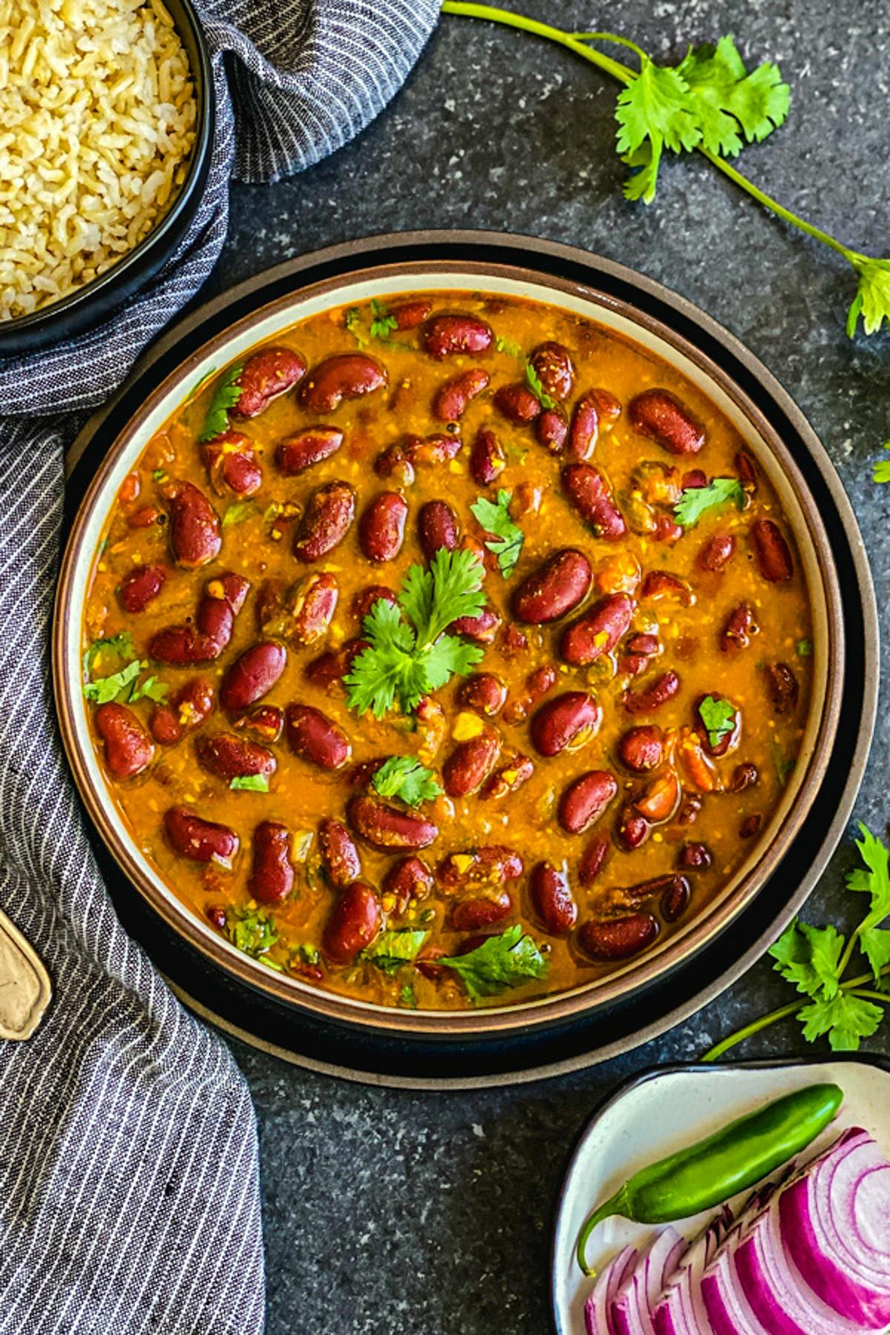RajmaCurry: (87, 300, 804, 1006)
